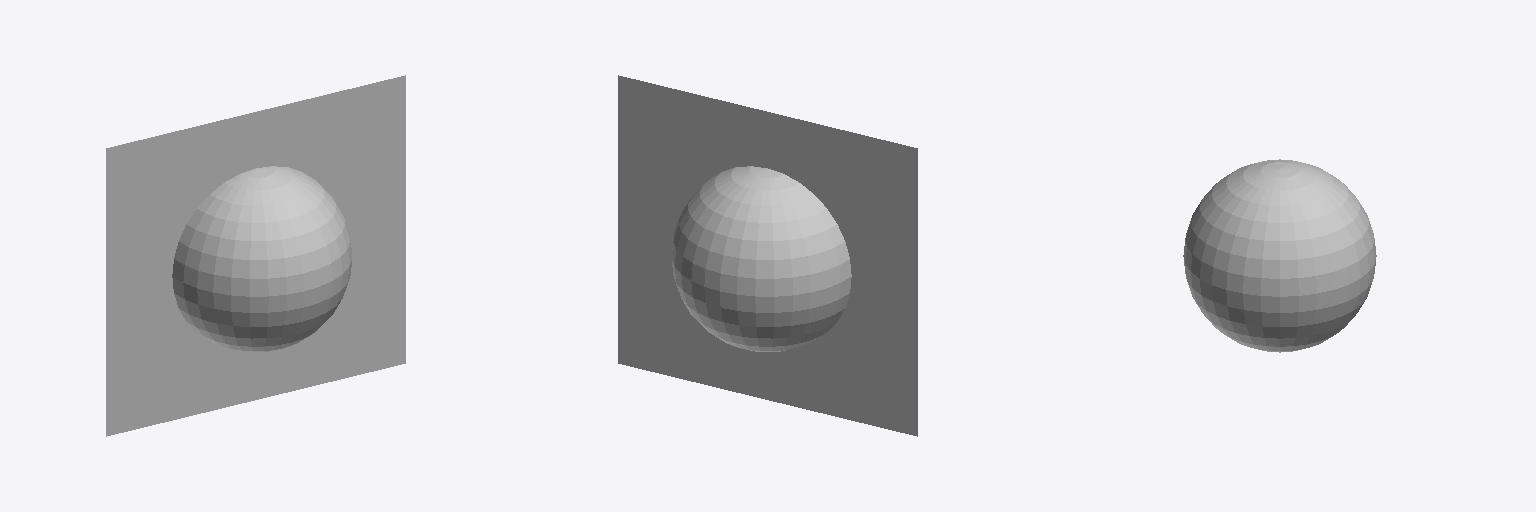
File: sun.obj
The picture shows the model from 3 angles: view 1: azimuth 30°, elevation 25°; view 2: azimuth 150°, elevation 25°; view 3: azimuth 270°, elevation 25°; orthographic projection.
Parts seen in each view (by area): view 1: karnei_shemesh_Plane.001, shemesh_Sphere.002; view 2: karnei_shemesh_Plane.001, shemesh_Sphere.002; view 3: shemesh_Sphere.002.
Boxes of the visible parts, x1=… form: karnei_shemesh_Plane.001: x1=106, y1=75, x2=405, y2=436; shemesh_Sphere.002: x1=172, y1=166, x2=351, y2=351; karnei_shemesh_Plane.001: x1=618, y1=75, x2=917, y2=436; shemesh_Sphere.002: x1=672, y1=166, x2=851, y2=351; shemesh_Sphere.002: x1=1183, y1=159, x2=1376, y2=352.
Bounding box in the file's own units: 3.59 × 3.29 × 2.